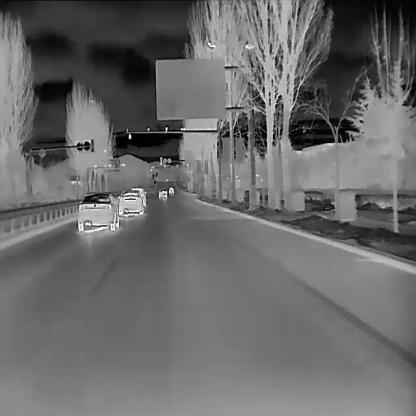car: (76, 190, 120, 231), (117, 189, 144, 215), (130, 185, 146, 205), (157, 187, 167, 198), (168, 186, 174, 194)
